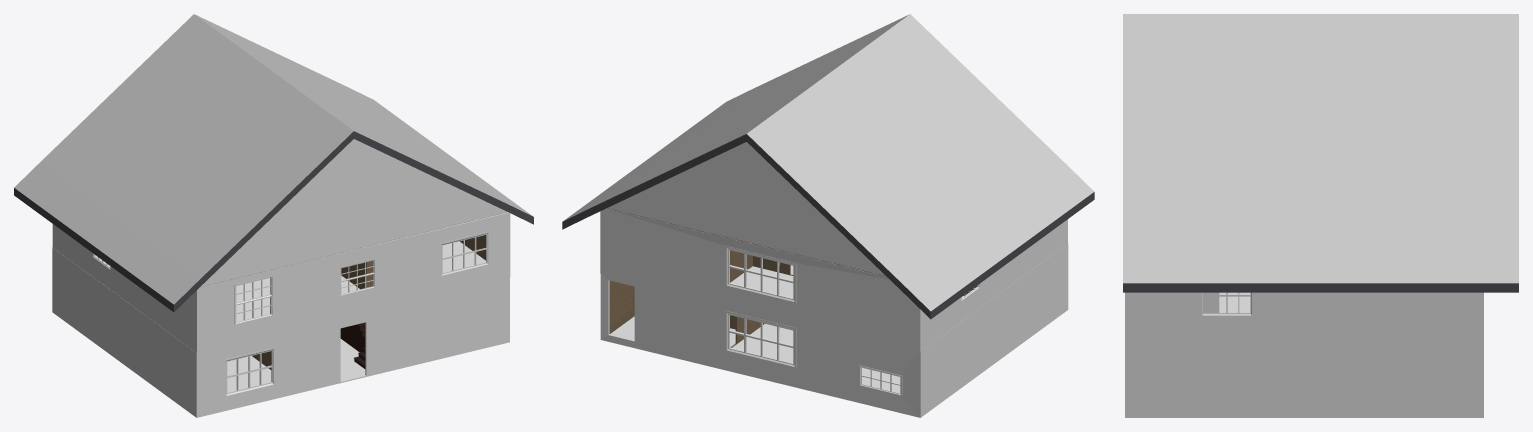
File: house texture.fbx
The picture shows the model from 3 angles, left to right: view 1: azimuth 30°, elevation 25°; view 2: azimuth 150°, elevation 25°; view 3: azimuth 270°, elevation 25°; orthographic projection. The views are drawn at different scales.
Parts seen in each view (by area): view 1: Outer walls second level.001, Roof, Ceiling 1, ground floor, Plane.004, Windows, Plane.003, Inside walls.extra, Stair.001, Plane.005; view 2: Roof, Outer walls second level.001, ground floor, Plane.001, Plane.007, Ceiling 1, Inside walls.extra, Plane.006; view 3: Roof, Outer walls second level.001, Plane.008, Ceiling 1.
Boxes of the visible parts, x1,y1,x2,y2 form: Outer walls second level.001: (52, 139, 510, 417); Roof: (14, 14, 533, 312); Ceiling 1: (95, 241, 485, 321); ground floor: (227, 339, 365, 392); Plane.004: (225, 347, 274, 397); Windows: (234, 276, 272, 324); Plane.003: (440, 231, 489, 277); Inside walls.extra: (341, 260, 373, 289); Stair.001: (340, 322, 365, 352); Plane.005: (340, 260, 374, 295); Roof: (562, 14, 1094, 319); Outer walls second level.001: (600, 142, 1068, 417); ground floor: (610, 316, 900, 392); Plane.001: (725, 246, 796, 303); Plane.007: (725, 310, 796, 368); Ceiling 1: (730, 265, 963, 297); Inside walls.extra: (730, 250, 977, 295); Plane.006: (859, 365, 902, 396); Roof: (1123, 14, 1518, 292); Outer walls second level.001: (1125, 292, 1483, 417); Plane.008: (1201, 292, 1252, 317); Ceiling 1: (1219, 292, 1250, 312).
Bounding box in the file's own units: 1451 × 963 × 1117.
